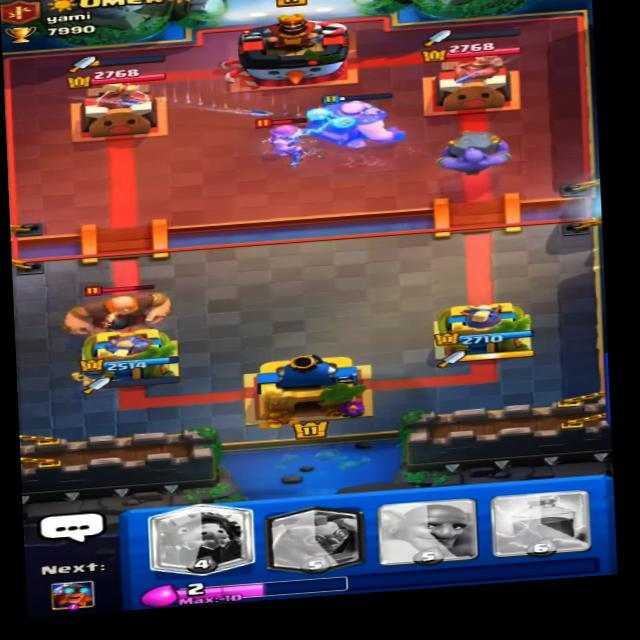fisherman: (251, 116, 335, 167)
giant: (61, 269, 190, 340)
